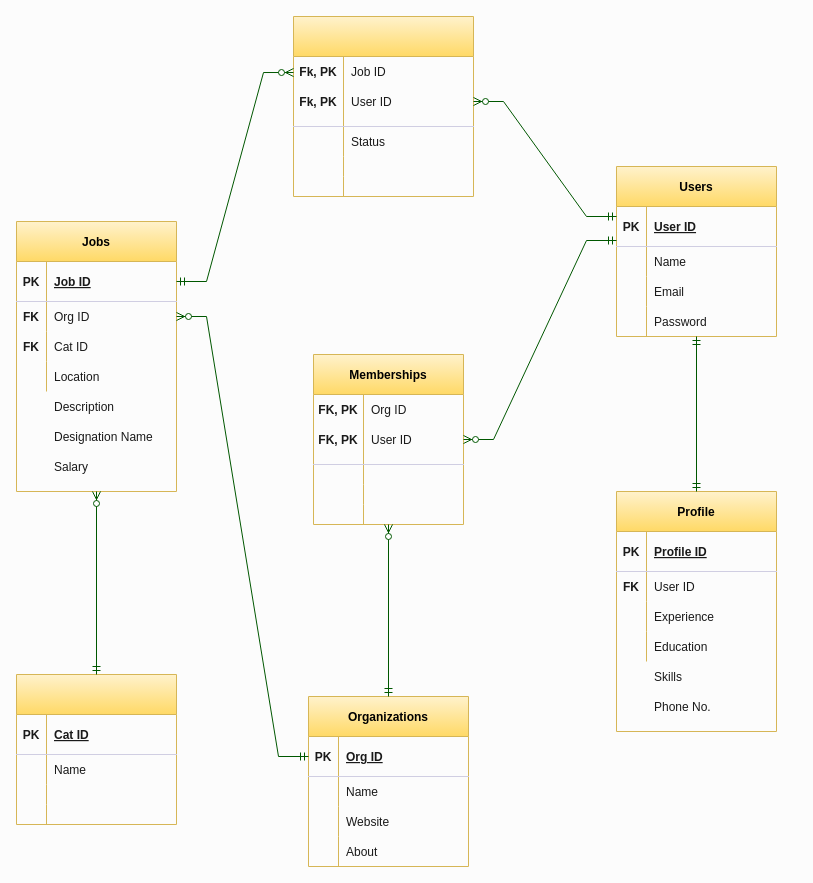
The diagram is 813 pixels wide and 883 high, and some of its shapes have lost their labels. The shapes that lost their labels are listed below. From the top down, each one's box as (x1, y1, x2, y2) in pixels, then its label:
(292, 16, 474, 196): Applications
(16, 674, 176, 824): Category
